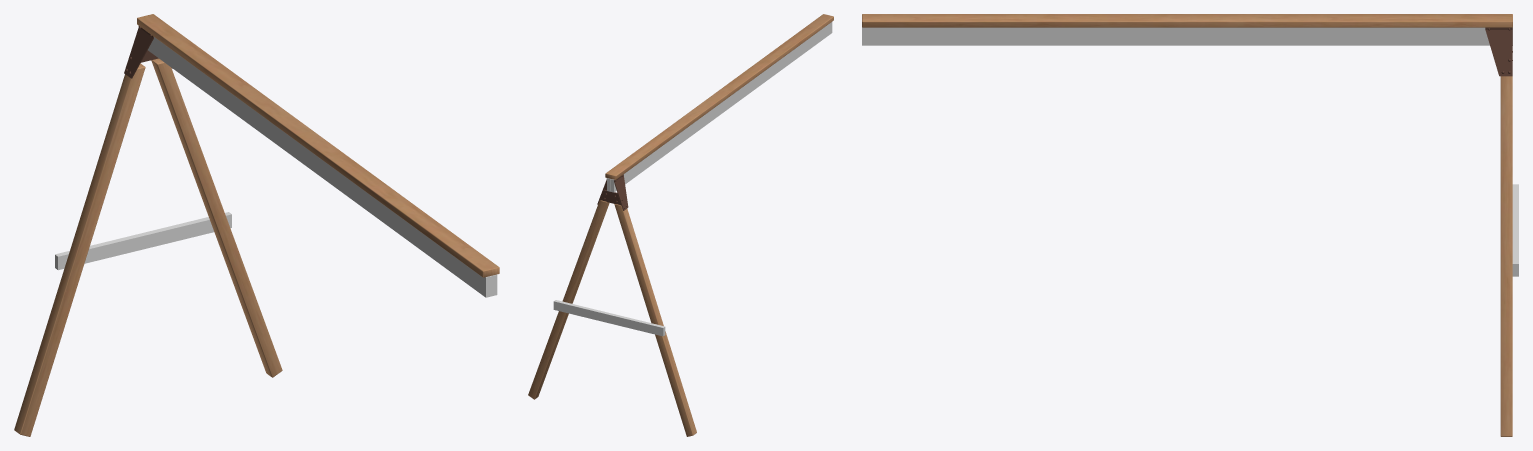
3 views of the same model, side by side, from view 1: azimuth 30°, elevation 25°; view 2: azimuth 150°, elevation 25°; view 3: azimuth 270°, elevation 25° (orthographic). The views are drawn at different scales.
Parts seen in each view (by area): view 1: Plane002, Plane002_1,_colorize_, Plane002_2; view 2: Plane002, Plane002_1,_colorize_, Plane002_2; view 3: Plane002, Plane002_1,_colorize_, Plane002_2.
Part boxes in pixels (x1=…): Plane002: x1=14, y1=14, x2=499, y2=436; Plane002_1,_colorize_: x1=55, y1=37, x2=497, y2=297; Plane002_2: x1=124, y1=26, x2=172, y2=78; Plane002: x1=528, y1=14, x2=833, y2=436; Plane002_1,_colorize_: x1=553, y1=22, x2=832, y2=336; Plane002_2: x1=597, y1=174, x2=628, y2=210; Plane002: x1=862, y1=14, x2=1512, y2=436; Plane002_1,_colorize_: x1=862, y1=27, x2=1518, y2=276; Plane002_2: x1=1485, y1=27, x2=1512, y2=76.
Bounding box in the file's own units: 2.36 × 3.33 × 5.45.
Materials: 3 (1 with a texture image).
